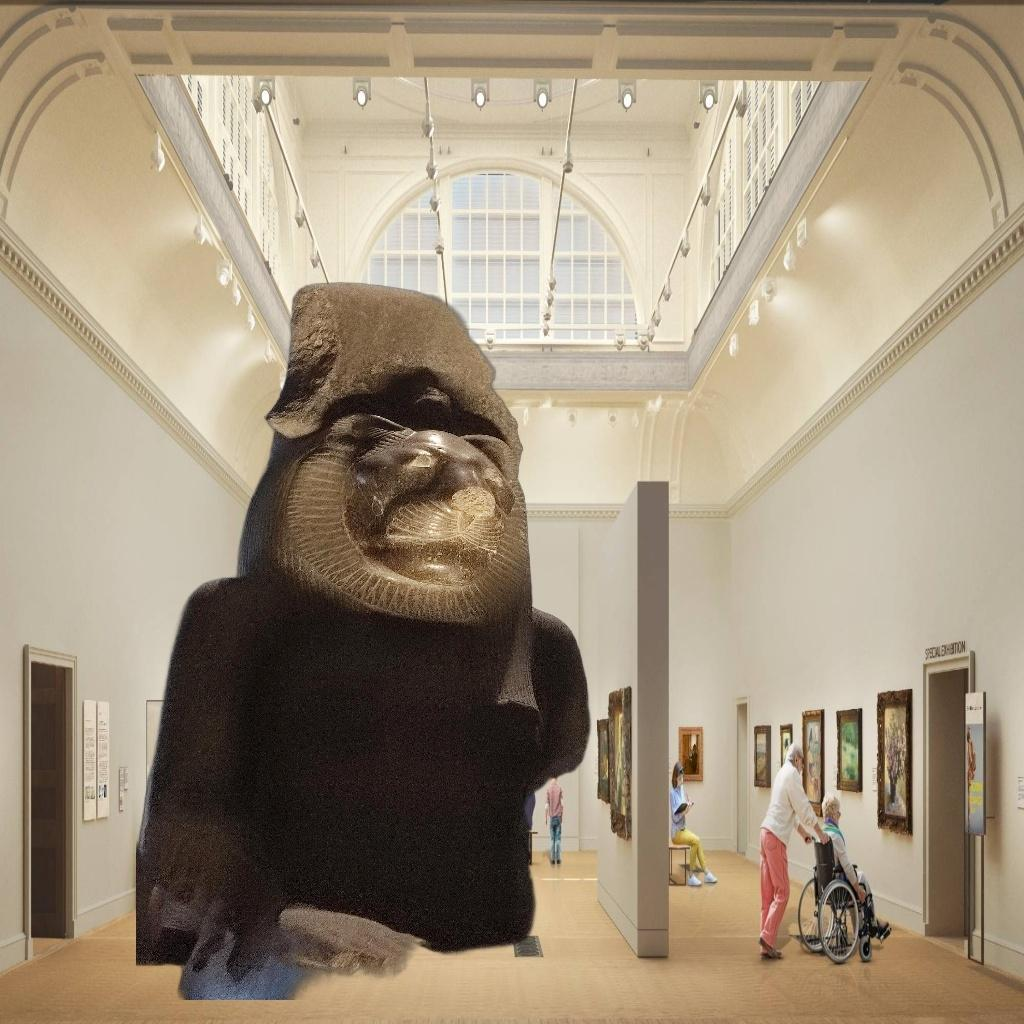Seated Statue of God Sekhmet: (136, 277, 764, 1000)
